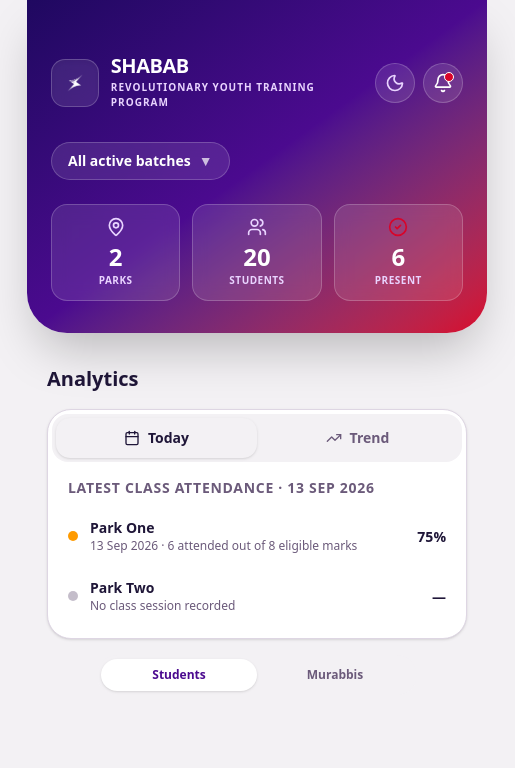
Test: MobileHomeDashboard › shows a neutral multi-Batch state with no false single-Batch period or chart
This screenshot has width=515, height=768.
Expected: the button "All active batches ▼" is shown, 51,142 -> 230,180
Step 1. Click the button "Trend" → (358, 438), box 257,418 -> 458,458
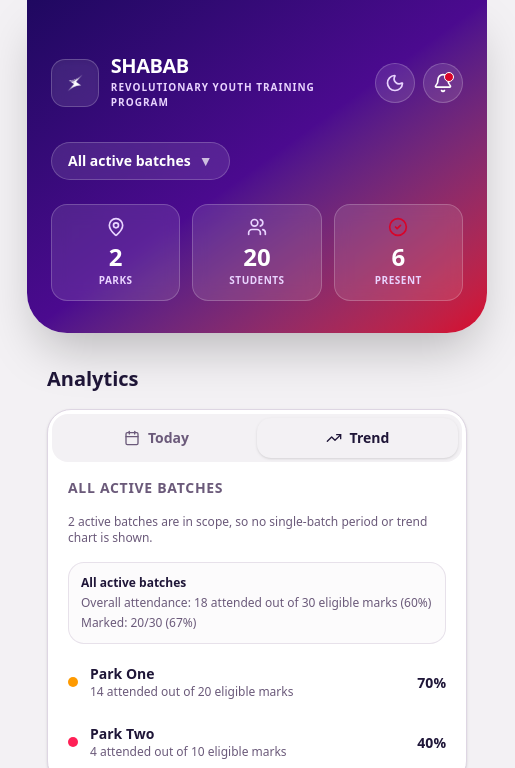
Expected: the text "2 active batches are in scope, so no single-batch period or trend chart is shown." is shown, 68,513 -> 427,546
Expected: the text "Overall attendance: 18 attended out of 30 eligible marks (60%)" is shown, 81,595 -> 433,611
Expected: the text "14 attended out of 20 eligible marks" is shown, 90,684 -> 294,700
